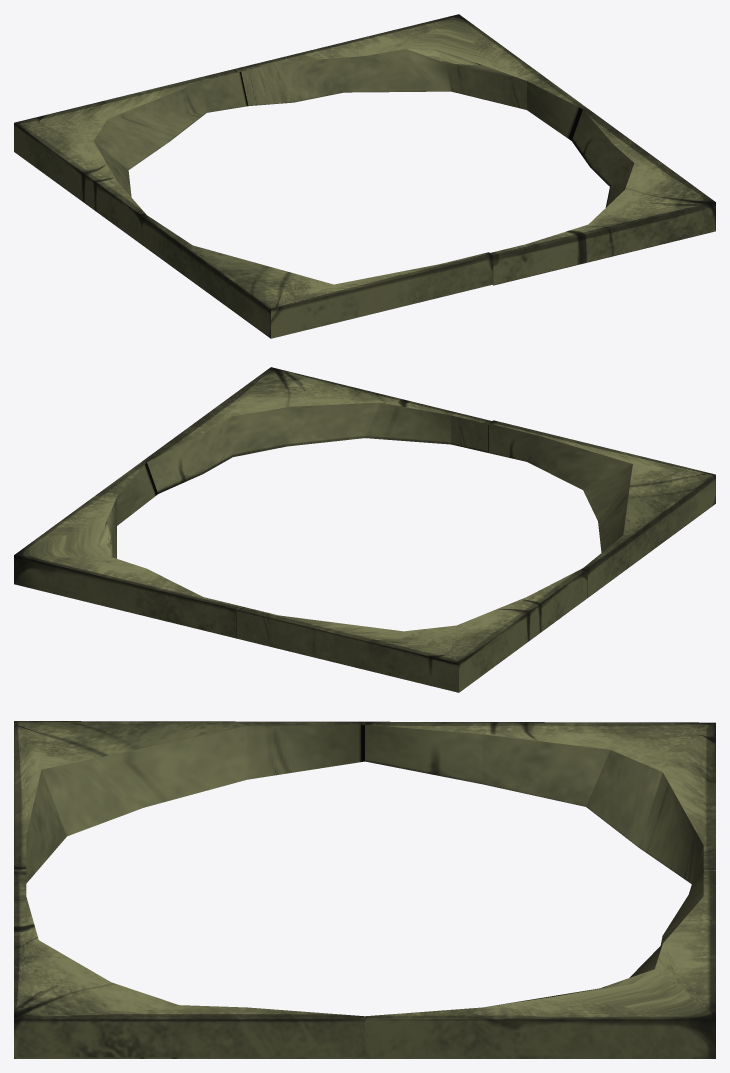
File: hole.FBX
3 views of the same model, one above another, from view 1: azimuth 30°, elevation 25°; view 2: azimuth 150°, elevation 25°; view 3: azimuth 270°, elevation 25° (orthographic). The views are drawn at different scales.
Parts seen in each view (by area): view 1: Box013; view 2: Box013; view 3: Box013.
Part boxes in pixels (x1=…): Box013: x1=14, y1=14, x2=715, y2=338; Box013: x1=14, y1=367, x2=715, y2=692; Box013: x1=14, y1=721, x2=715, y2=1058.
Bounding box in the file's own units: 80 × 5.19 × 80.
